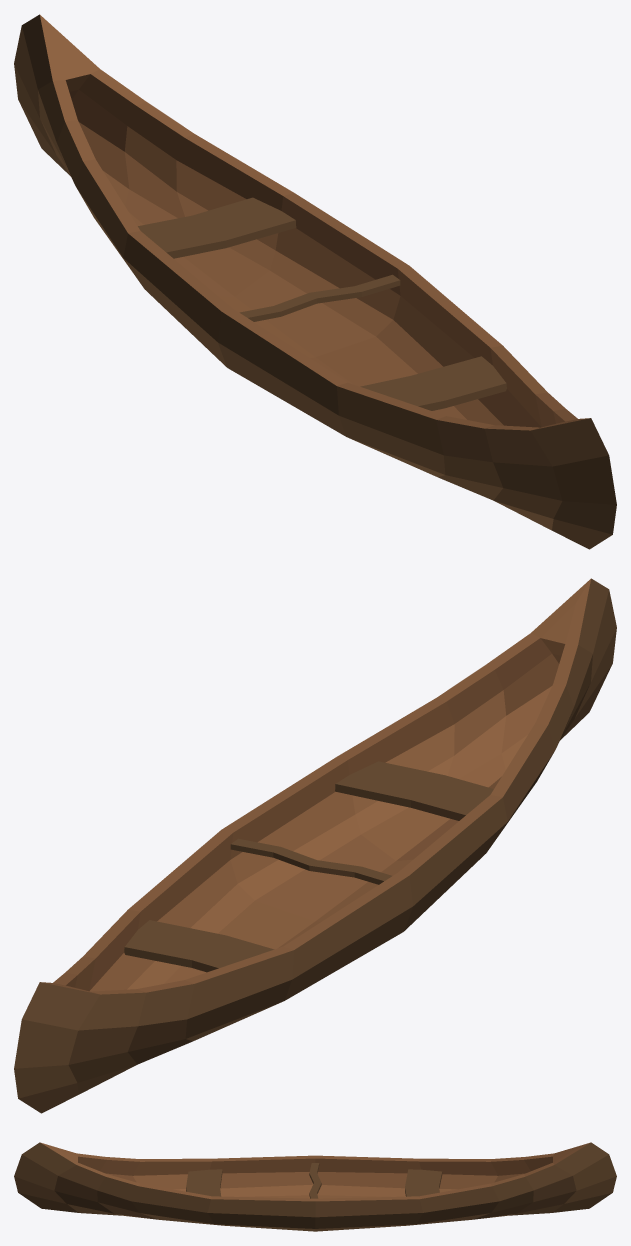
The model's file is canoe.glb.
3 renders of one model, top to bottom at view 1: azimuth 30°, elevation 25°; view 2: azimuth 150°, elevation 25°; view 3: azimuth 270°, elevation 25°, orthographic. The views are drawn at different scales.
Parts seen in each view (by area): view 1: canoe; view 2: canoe; view 3: canoe.
Boxes of the visible parts, x1,y1,x2,y2 form: canoe: (14, 14, 616, 549); canoe: (14, 578, 616, 1113); canoe: (14, 1142, 616, 1231).
Size of the model in its own units: 1.02 by 0.7665 by 5.47.
1 material, 1 textured.
